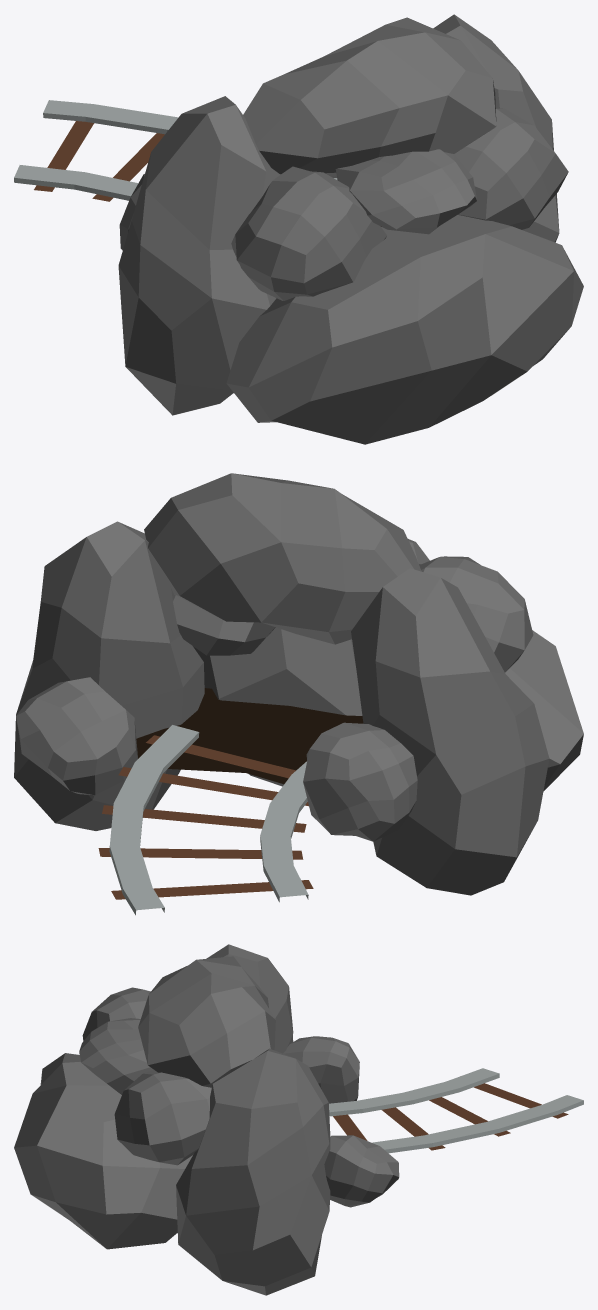
The model's file is Buraco.fbx.
The picture shows the model from 3 angles, top to bottom: view 1: azimuth 30°, elevation 25°; view 2: azimuth 150°, elevation 25°; view 3: azimuth 270°, elevation 25°; orthographic projection. The views are drawn at different scales.
Parts seen in each view (by area): view 1: Hole; view 2: Hole; view 3: Hole.
Part boxes in pixels (box(x1,y1,x2,y2)): Hole: box(14, 14, 583, 444); Hole: box(14, 473, 583, 915); Hole: box(14, 944, 583, 1295).
Bounding box in the file's own units: 136 × 98.96 × 191.
